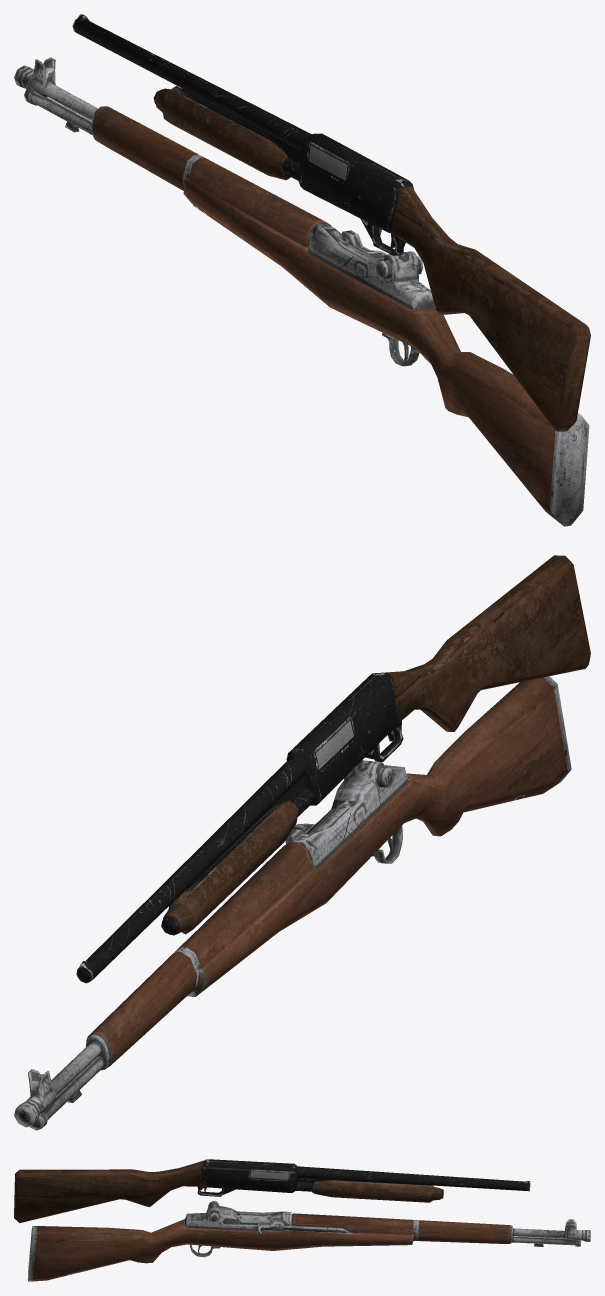
The model's file is SM_GunRiflesB.FBX.
3 renders of one model, top to bottom at view 1: azimuth 30°, elevation 25°; view 2: azimuth 150°, elevation 25°; view 3: azimuth 270°, elevation 25°, orthographic. The views are drawn at different scales.
Parts seen in each view (by area): view 1: SM_RifleGroupB; view 2: SM_RifleGroupB; view 3: SM_RifleGroupB.
Part boxes in pixels (x1,y1,x2,y2): SM_RifleGroupB: (14, 14, 590, 526); SM_RifleGroupB: (14, 555, 590, 1130); SM_RifleGroupB: (14, 1159, 590, 1281).
Bounding box in the file's own units: 8.19 × 26.5 × 115.
